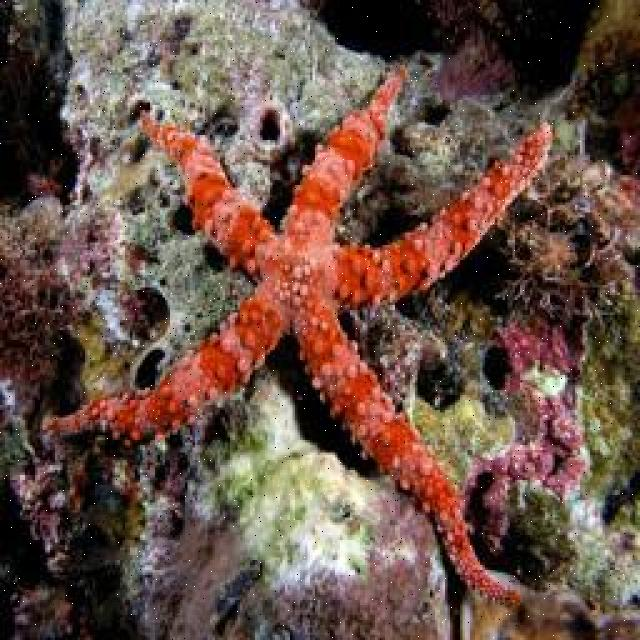reefs: (41, 63, 552, 606), (461, 317, 588, 554), (496, 175, 638, 318)
